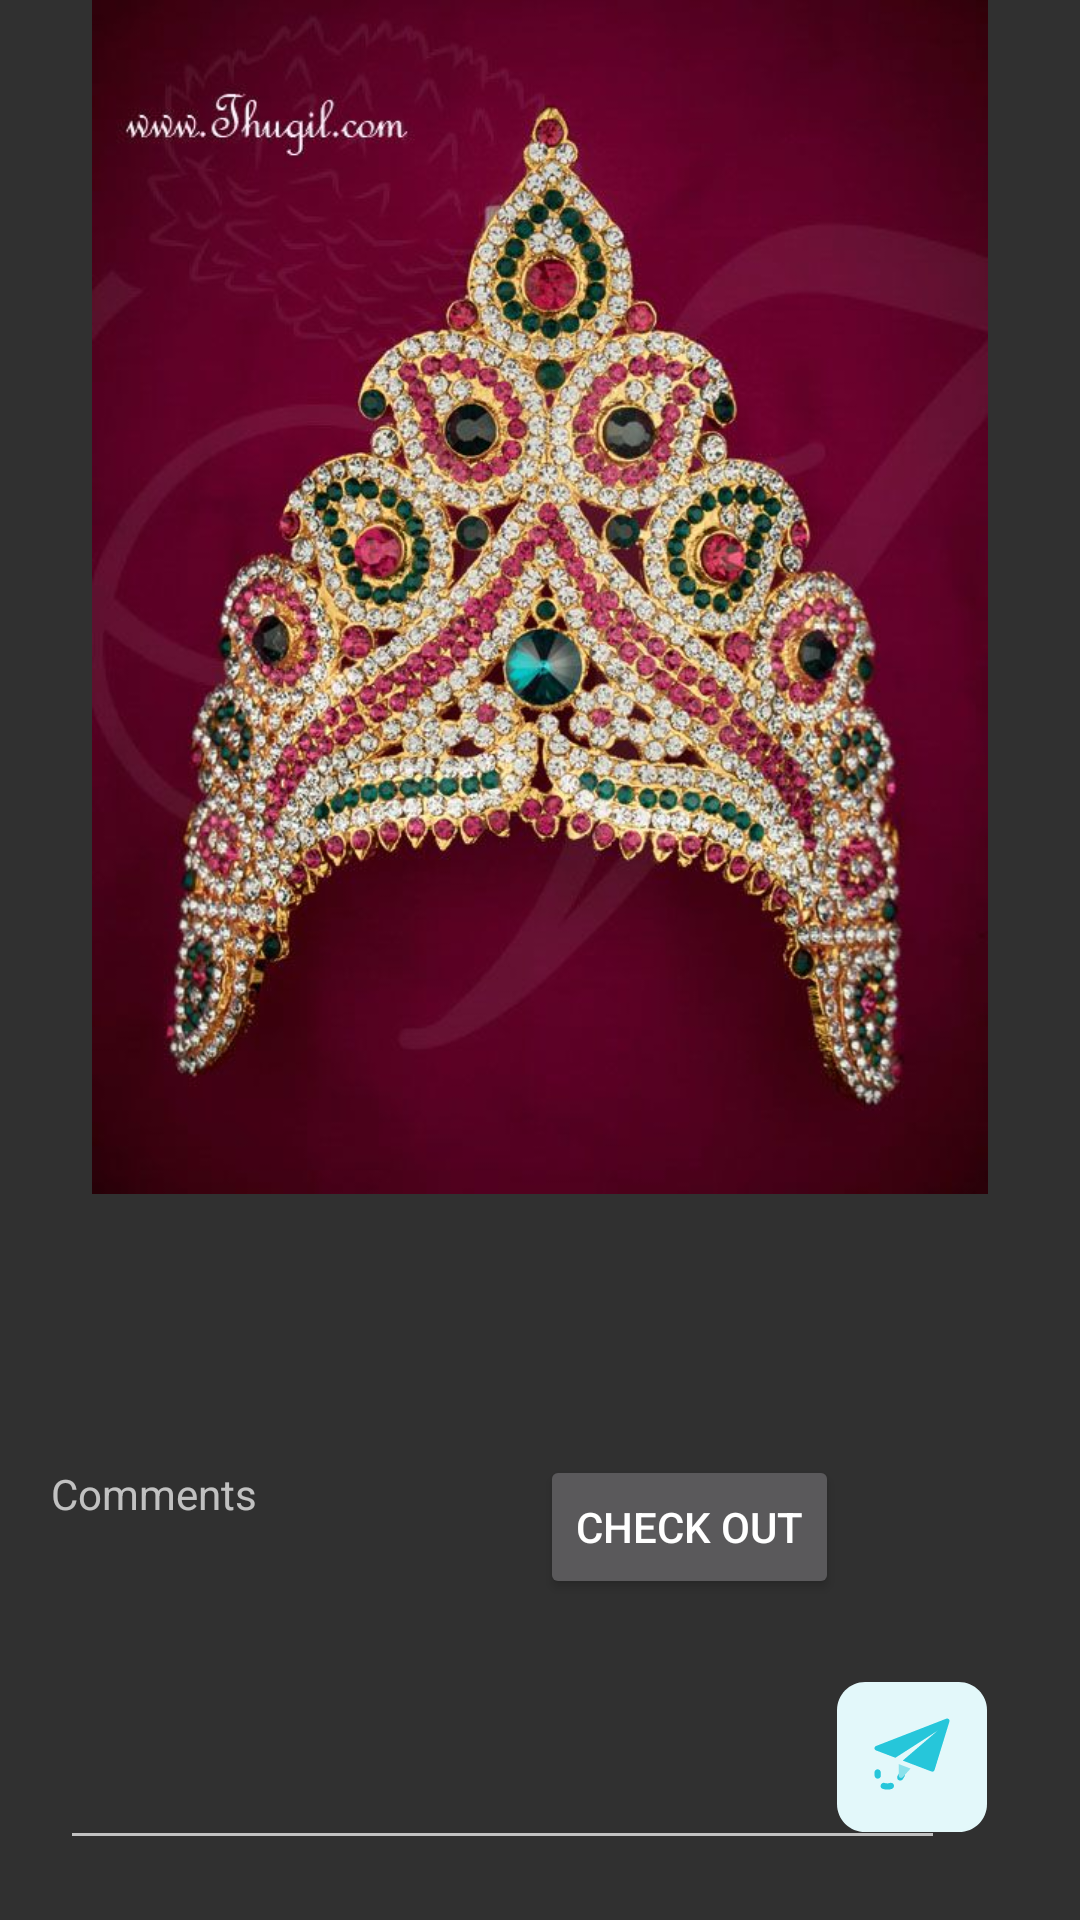

Icon bounding boxes for this 1080×1920 phone screenshot, format (x1, y1, x2, y2):
sendbtn: (837, 1682, 987, 1832)
